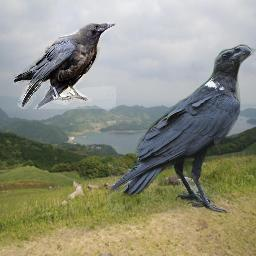Crow: (108, 43, 256, 213), (13, 22, 116, 109)
